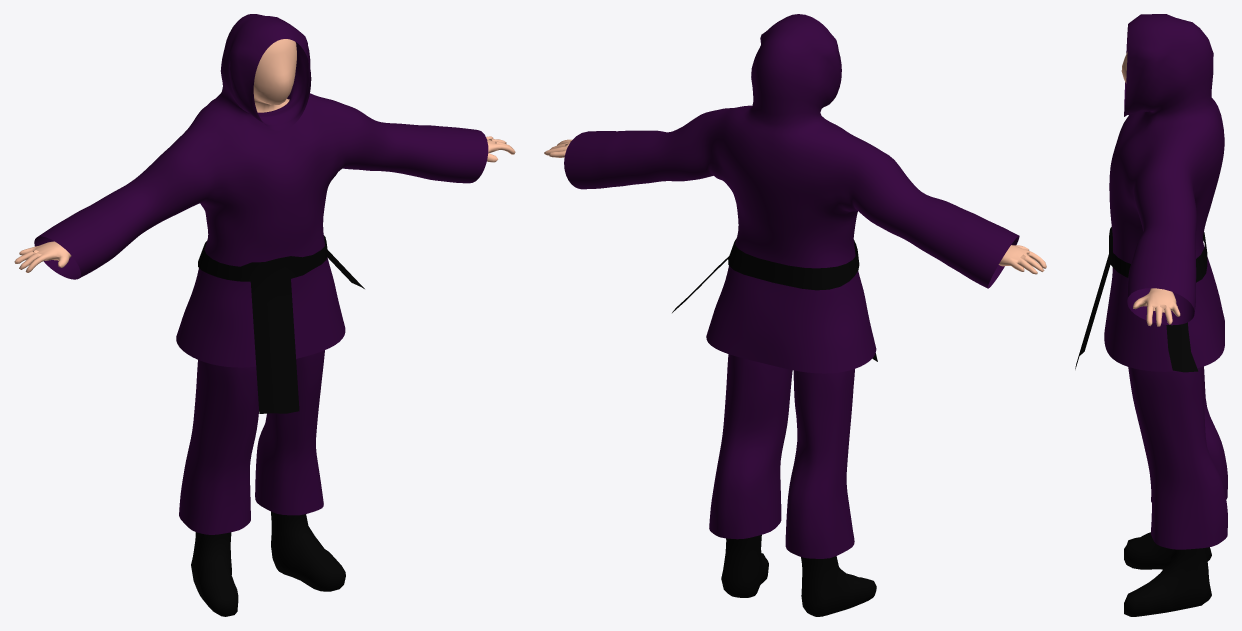
Rendered from Wizard.fbx.
3 views of the same model, side by side, from view 1: azimuth 30°, elevation 25°; view 2: azimuth 150°, elevation 25°; view 3: azimuth 270°, elevation 25° (orthographic).
Visible parts, largest first — view 1: HoodedCloak.001, Pants.001, Sash.001, Boots.001, Human_Retopo.001; view 2: HoodedCloak.001, Pants.001, Boots.001, Sash.001, Human_Retopo.001; view 3: HoodedCloak.001, Pants.001, Boots.001, Sash.001, Human_Retopo.001.
Part boxes in pixels (<box>): HoodedCloak.001: <box>34,14,488,367</box>; Pants.001: <box>179,350,324,534</box>; Sash.001: <box>198,235,364,413</box>; Boots.001: <box>191,511,345,616</box>; Human_Retopo.001: <box>14,39,515,272</box>; HoodedCloak.001: <box>564,14,1019,373</box>; Pants.001: <box>709,354,854,558</box>; Boots.001: <box>721,535,876,616</box>; Sash.001: <box>672,238,877,361</box>; Human_Retopo.001: <box>544,139,1046,274</box>; HoodedCloak.001: <box>1104,14,1224,371</box>; Pants.001: <box>1128,366,1227,549</box>; Boots.001: <box>1124,532,1211,616</box>; Sash.001: <box>1075,227,1207,372</box>; Human_Retopo.001: <box>1121,51,1180,326</box>.
Bounding box in the file's own units: 152 × 169 × 40.76.
